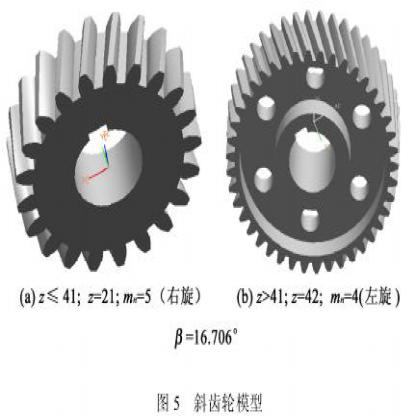FOD: (0, 6, 210, 276), (221, 8, 405, 277)
